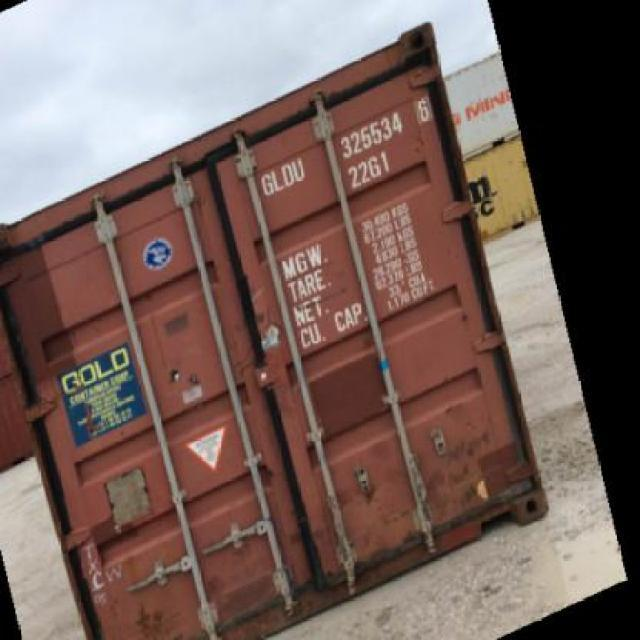hole: (157, 364, 220, 416)
